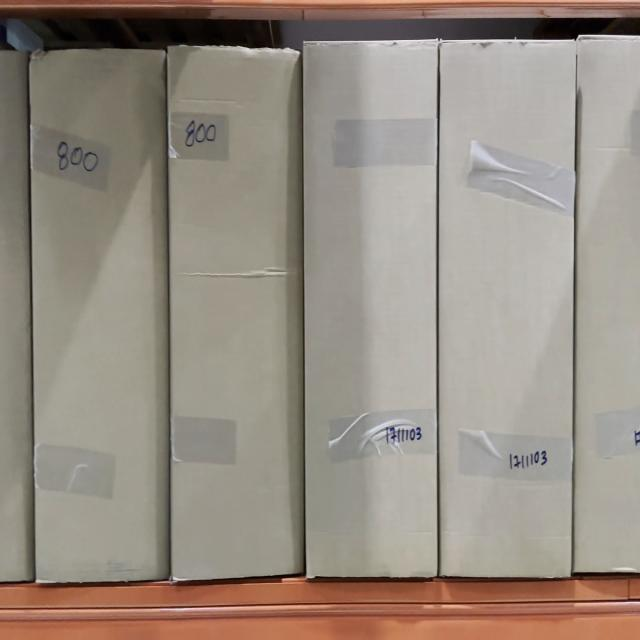box: (441, 42, 574, 575), (34, 53, 166, 575), (307, 43, 436, 575), (174, 53, 300, 576)
